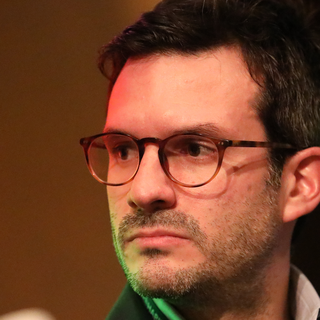eye: (169, 136, 220, 167), (107, 140, 144, 166)
